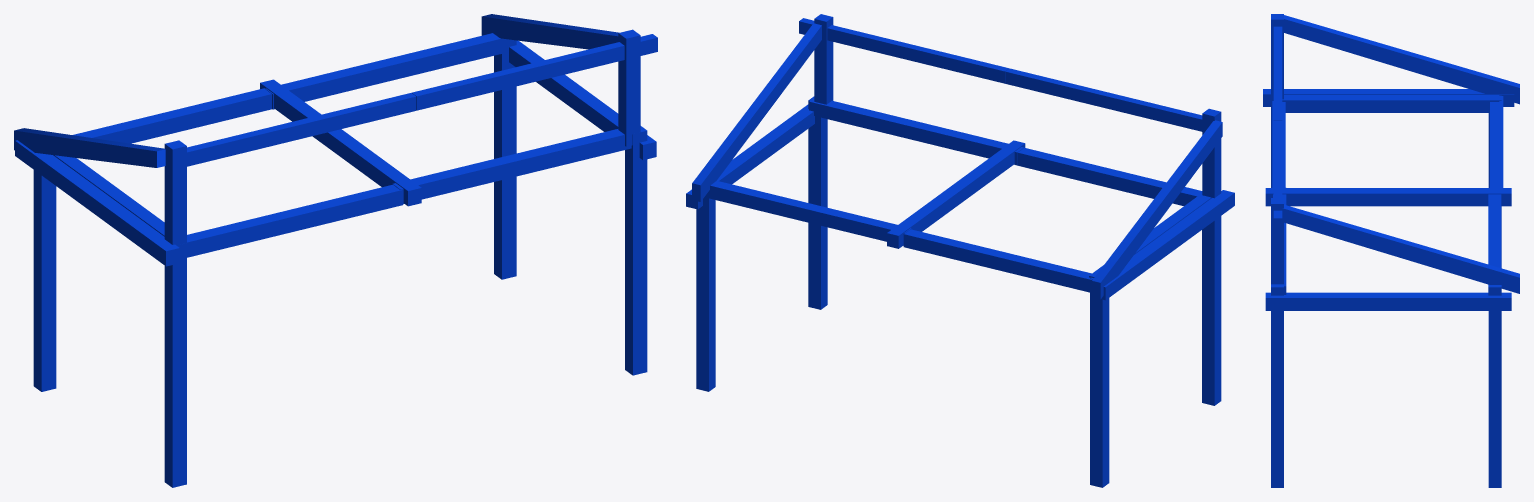
Rendered from Hut_04.fbx.
3 renders of one model, left to right at view 1: azimuth 30°, elevation 25°; view 2: azimuth 150°, elevation 25°; view 3: azimuth 270°, elevation 25°, orthographic. The views are drawn at different scales.
Visible parts, largest first — view 1: Hut_04; view 2: Hut_04; view 3: Hut_04.
Boxes of the visible parts, box(x1,y1,x2,y2) form: Hut_04: box(14, 14, 657, 487); Hut_04: box(686, 14, 1234, 487); Hut_04: box(1263, 14, 1519, 487).
Bounding box in the file's own units: 647 × 420 × 347.
